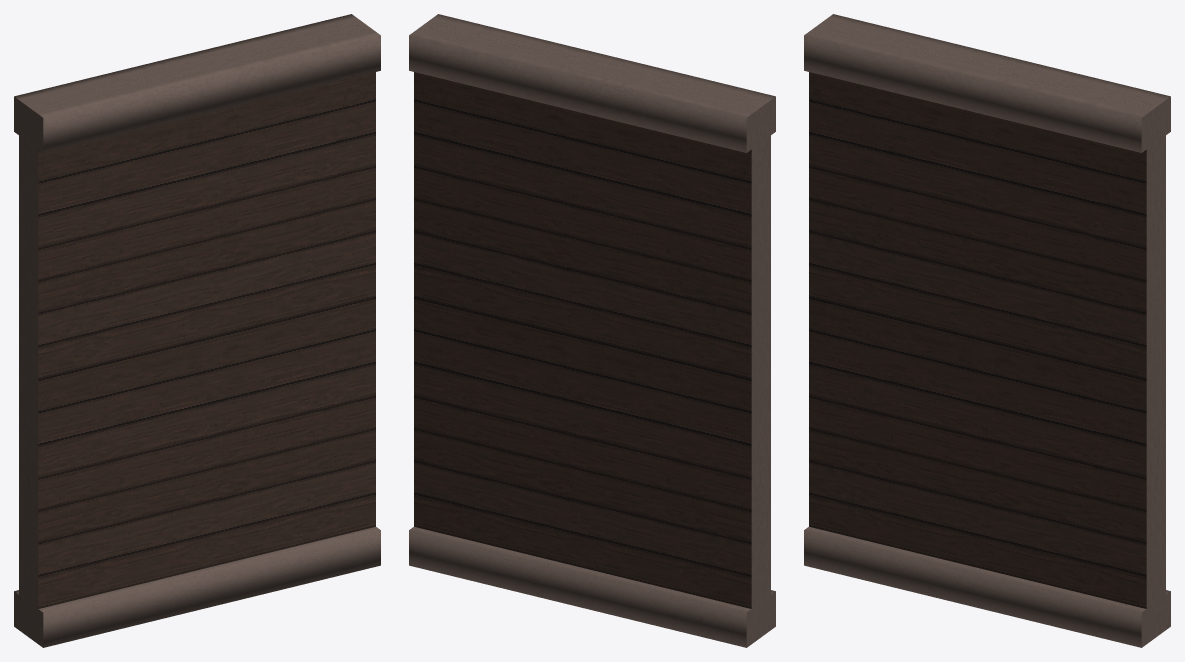
File: Wall_2x3_A.glb
3 views of the same model, side by side, from view 1: azimuth 30°, elevation 25°; view 2: azimuth 150°, elevation 25°; view 3: azimuth 330°, elevation 25° (orthographic).
Parts seen in each view (by area): view 1: Wall_2x3_A.001; view 2: Wall_2x3_A.001; view 3: Wall_2x3_A.001.
Part boxes in pixels (box(x1,y1,x2,y2)): Wall_2x3_A.001: box(14, 14, 380, 647); Wall_2x3_A.001: box(409, 14, 775, 647); Wall_2x3_A.001: box(804, 14, 1170, 647).
Bounding box in the file's own units: 2 × 3 × 0.3.
Materials: 1 (1 with a texture image).
